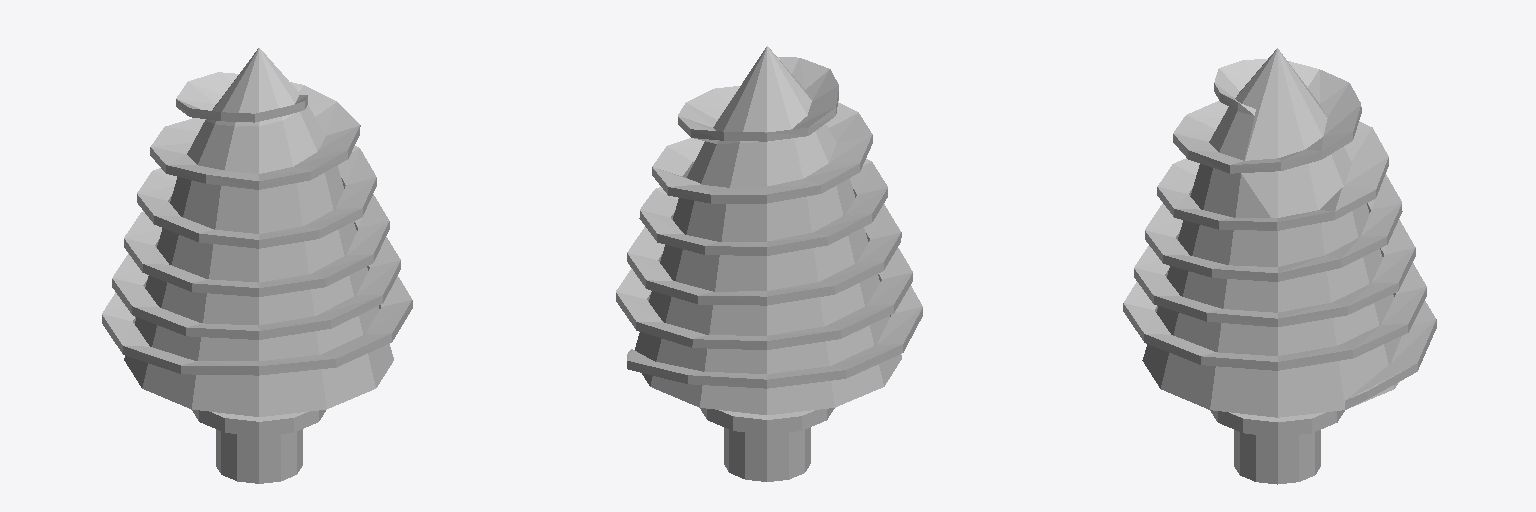
The model's file is MiningDrill.obj.
The picture shows the model from 3 angles: view 1: azimuth 30°, elevation 25°; view 2: azimuth 150°, elevation 25°; view 3: azimuth 270°, elevation 25°; orthographic projection.
Bounding box in the file's own units: 4.45 × 6.62 × 4.49.